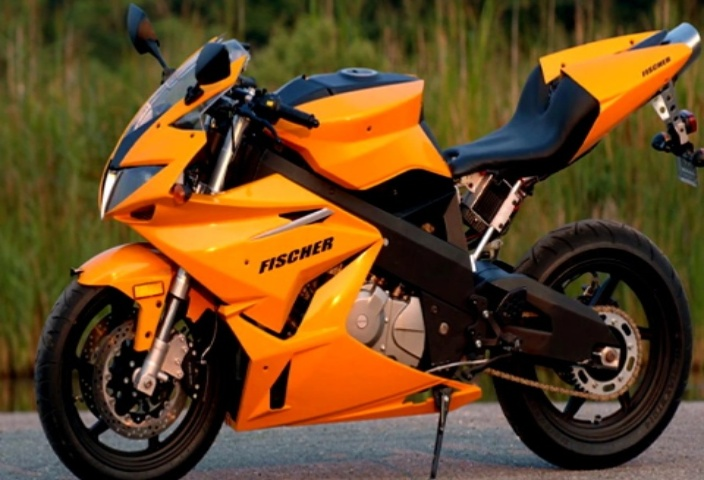motorcycle: (52, 1, 701, 480)
